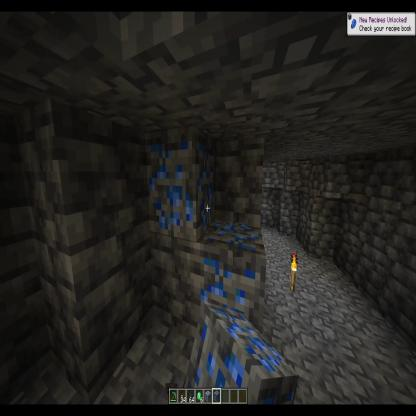lapis ore: (184, 298, 298, 413), (196, 214, 267, 350), (146, 125, 217, 240)
